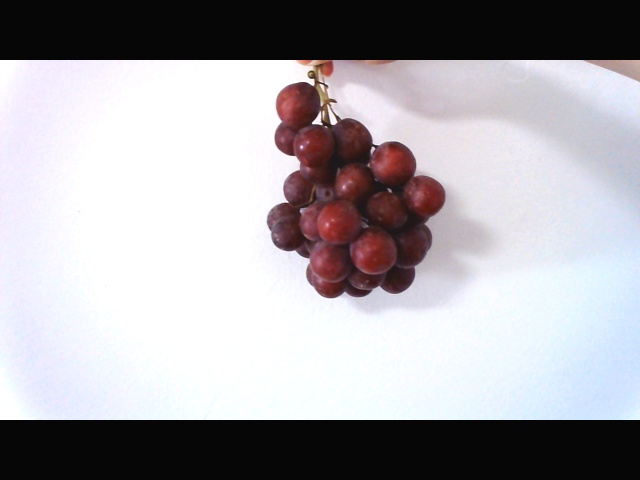grape: (262, 78, 454, 299)
